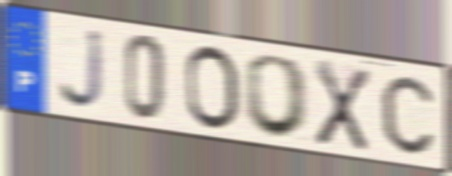0: (122, 33, 173, 126)
C: (378, 73, 436, 157)
J: (57, 27, 108, 114)
O: (242, 51, 312, 141), (182, 42, 243, 133)
X: (312, 56, 372, 155)
